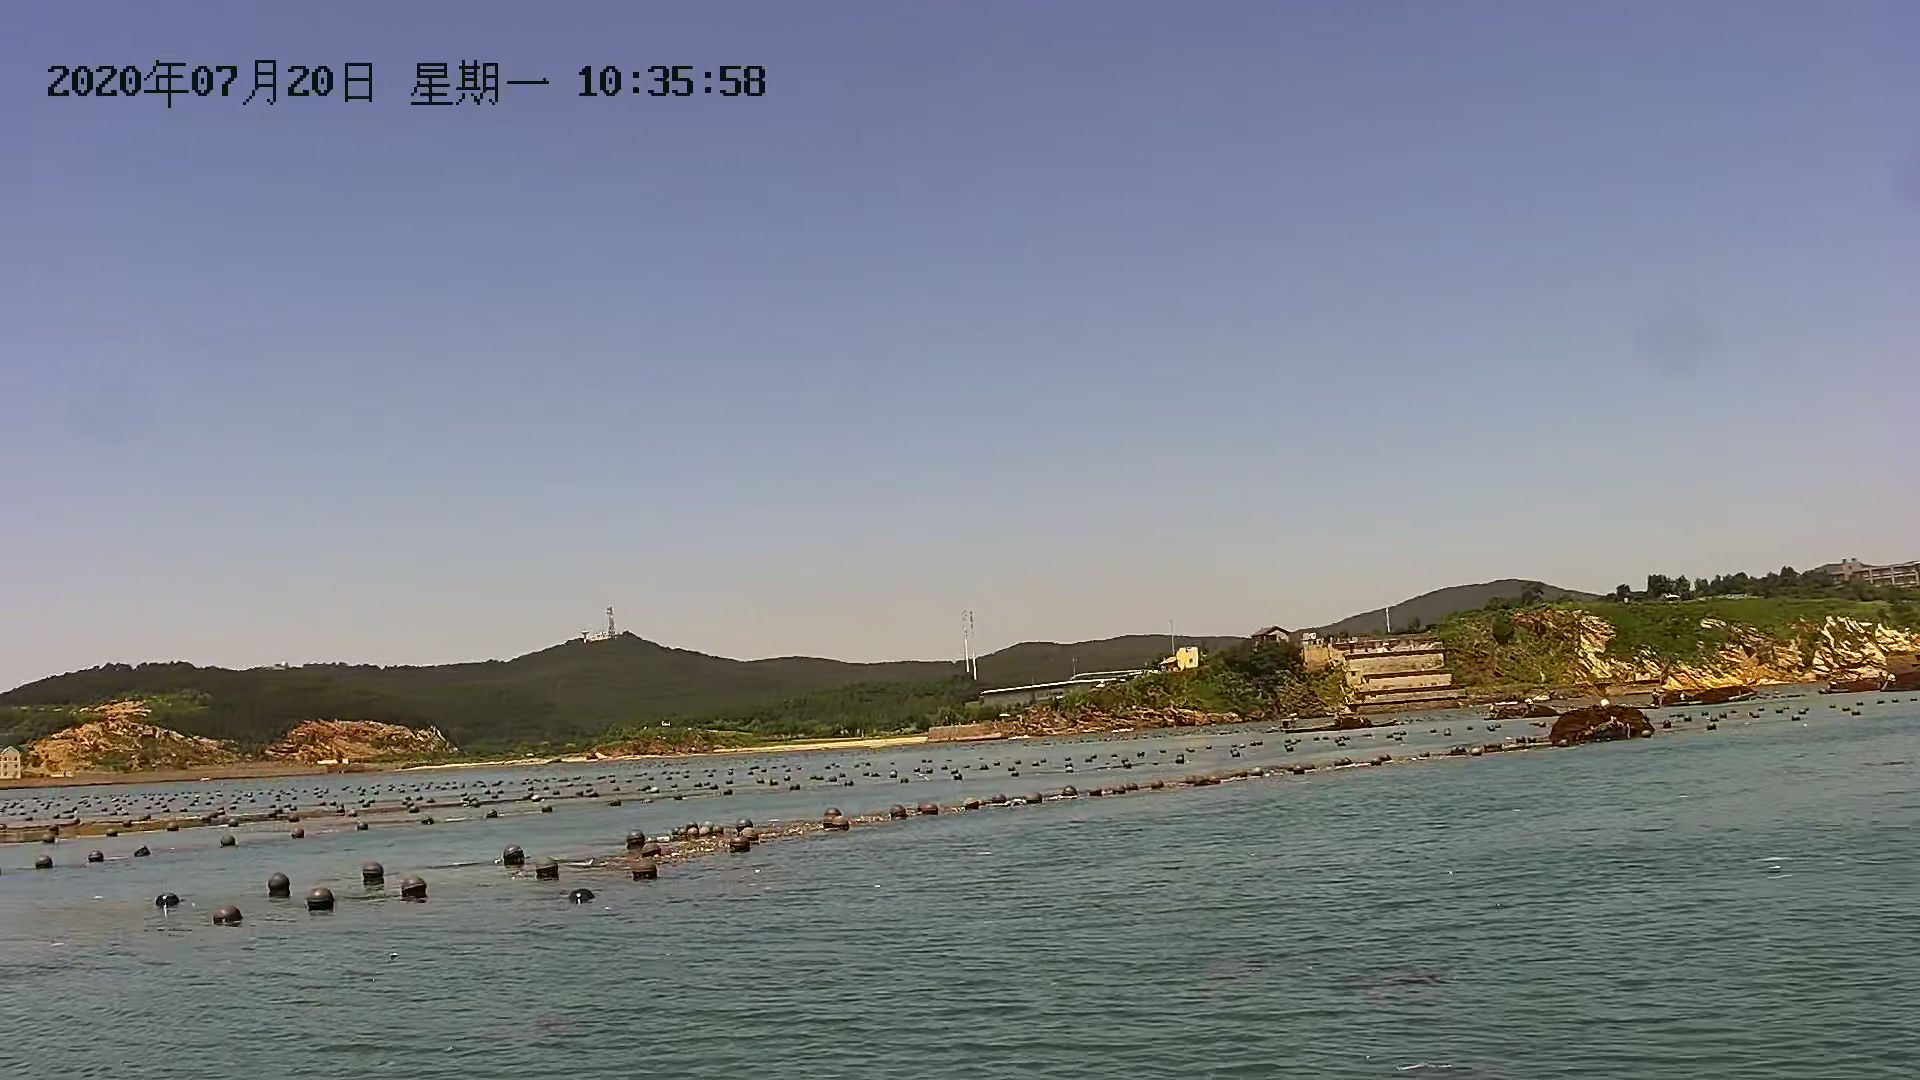ball: (149, 880, 183, 916), (400, 869, 433, 905), (620, 827, 653, 858), (353, 855, 382, 889), (306, 884, 338, 913), (822, 802, 851, 832), (264, 869, 293, 898), (624, 860, 658, 884), (214, 906, 248, 928), (500, 840, 526, 869), (533, 855, 562, 880), (36, 849, 59, 877), (566, 884, 593, 907), (725, 829, 748, 856), (83, 847, 109, 866)
rubbish: (1547, 704, 1662, 753), (1324, 704, 1389, 737), (1487, 702, 1559, 723)
